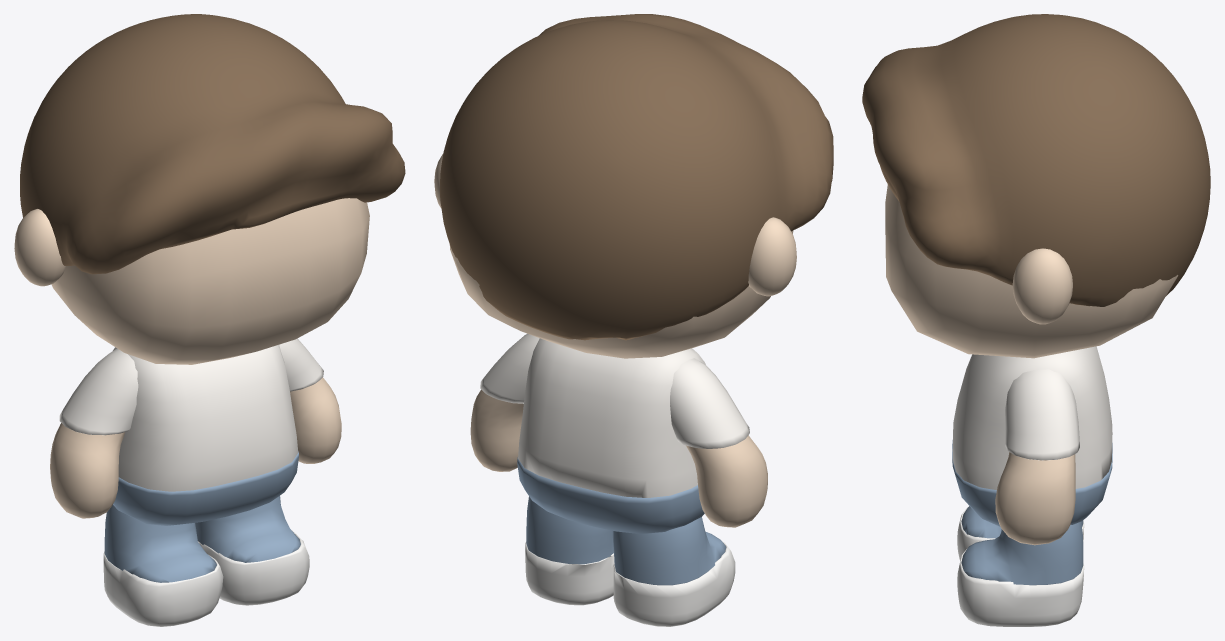
Rendered from npc_adulto.fbx.
3 views of the same model, side by side, from view 1: azimuth 30°, elevation 25°; view 2: azimuth 150°, elevation 25°; view 3: azimuth 270°, elevation 25° (orthographic).
Visible parts, largest first — view 1: pelo, cabeza, camiseta, pantalon, pantalon_piernaL, brazoL, zapatoL, camiseta_mangaL, pantalon_piernaR, zapatoR, brazoR, orejas (+1 smaller); view 2: pelo, camiseta, pantalon, cabeza, pantalon_piernaL, brazoL, camiseta_mangaL, zapatoL, pantalon_piernaR, zapatoR, brazoR, orejas (+1 smaller); view 3: pelo, cabeza, camiseta, brazoR, camiseta_mangaR, zapatoR, pantalon_piernaR, orejas, pantalon, pantalon_piernaL, zapatoL.
Boxes of the visible parts, x1,y1,x2,y2 form: pelo: (20,14,405,274); cabeza: (51,198,369,364); camiseta: (113,344,298,491); pantalon: (113,451,298,525); pantalon_piernaL: (104,505,216,582); brazoL: (50,423,124,518); zapatoL: (103,551,223,626); camiseta_mangaL: (59,348,138,435); pantalon_piernaR: (195,496,300,562); zapatoR: (198,530,309,605); brazoR: (290,377,341,463); orejas: (14,209,65,286); pelo: (440,14,833,340); camiseta: (518,338,705,497); pantalon: (517,457,704,533); cabeza: (449,231,793,358); pantalon_piernaL: (612,517,726,585); brazoL: (686,435,767,527); camiseta_mangaL: (670,358,749,448); zapatoL: (613,541,735,626); pantalon_piernaR: (526,496,613,564); zapatoR: (525,542,614,605); brazoR: (470,389,523,471); orejas: (434,154,796,296); pelo: (862,14,1210,306); cabeza: (885,184,1178,358); camiseta: (952,346,1112,490); brazoR: (995,452,1075,545); camiseta_mangaR: (1005,369,1079,460); zapatoR: (957,549,1084,626); pantalon_piernaR: (961,521,1083,585); orejas: (1012,248,1072,324); pantalon: (952,440,1112,526); pantalon_piernaL: (961,506,1083,538); zapatoL: (957,507,1084,560).
Bounding box in the file's own units: 2.93 × 4.49 × 2.53.
